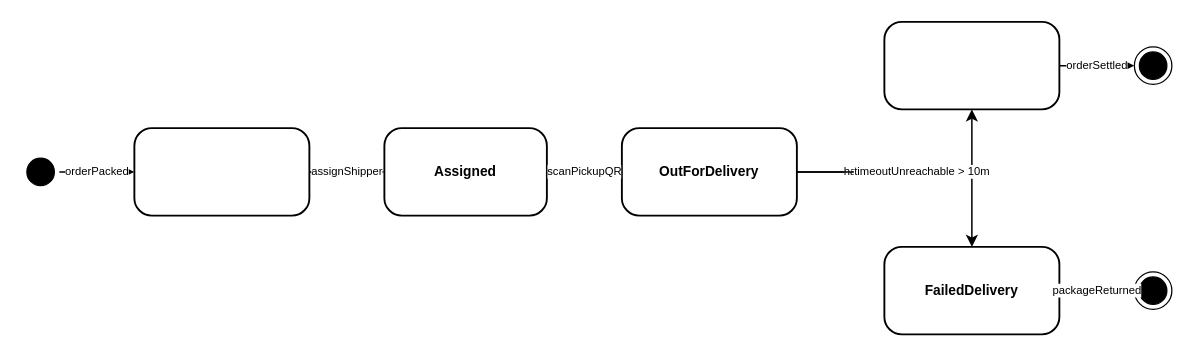
Some shapes in this 1194 by 358 pixel diagram are drawn without their labels. The box of each missing label's shape, as (x1, y1, x2, y2) in pixels:
Delivered: (883, 20, 1060, 110)
ReadyForPickup: (133, 127, 310, 216)
